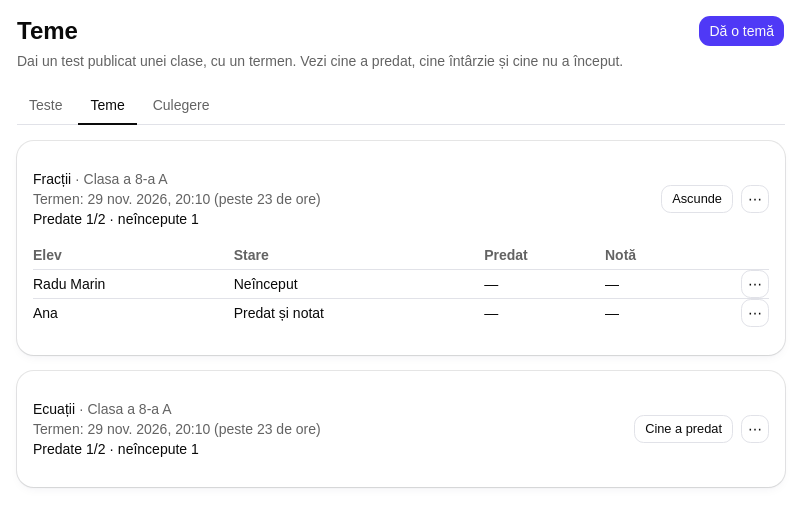
Test: AdminAssignmentsPage › excuses one student from their row and shows it in the list
Click the button named "Excepții pentru Radu Marin": coordinates (755, 284) [741,270,769,298]
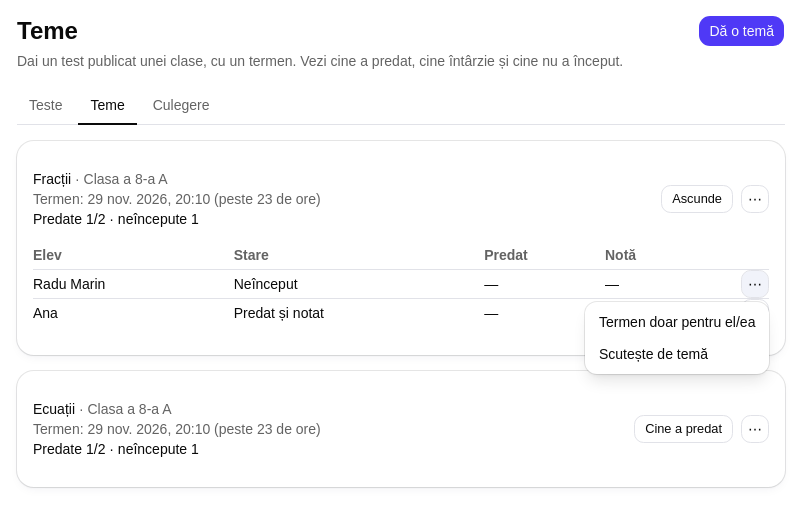
Click the menu item "Scutește de temă": coordinates (654, 354) [599,346,708,362]
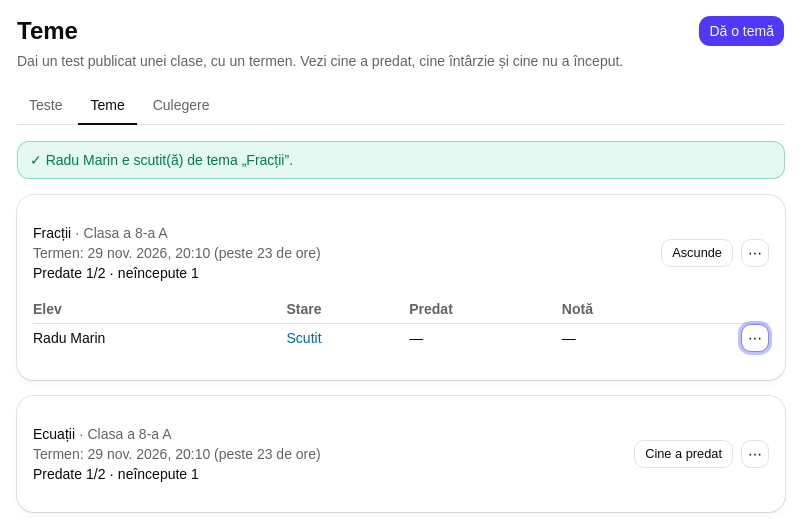
Expected: the text "Scutit" is shown, [286,330,322,346]
